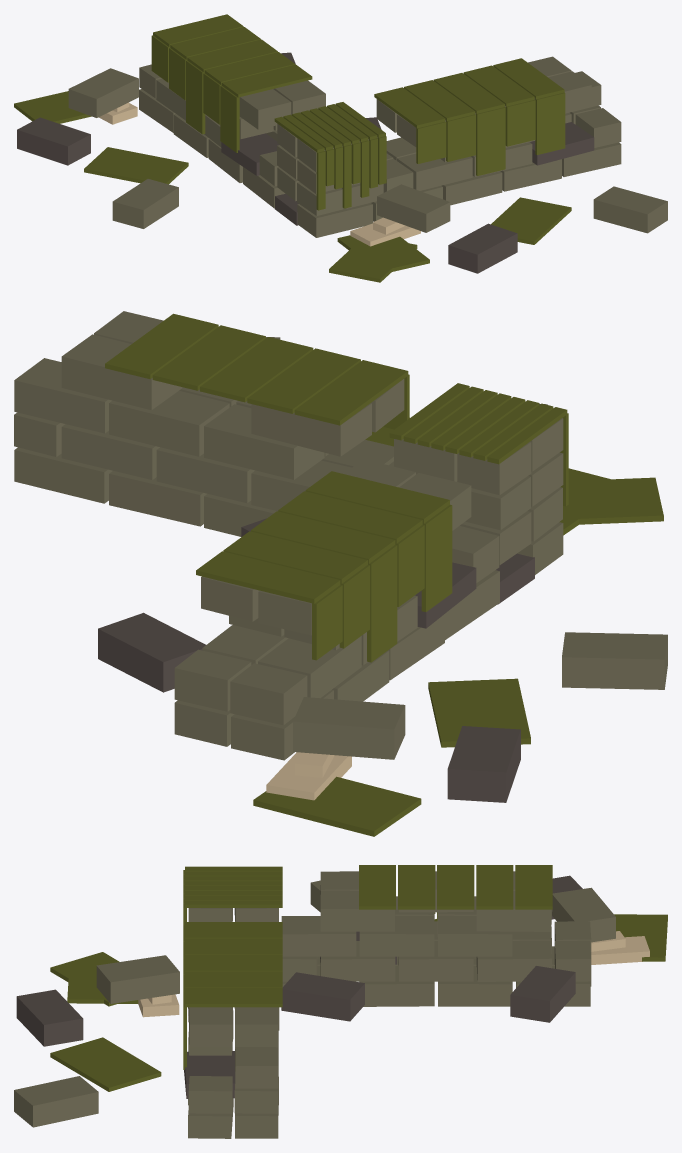
Rendered from SM_SacosEsquina_v4_Red_e1_Danado_LOD0.fbx.
The picture shows the model from 3 angles, top to bottom: view 1: azimuth 30°, elevation 25°; view 2: azimuth 150°, elevation 25°; view 3: azimuth 270°, elevation 25°; orthographic projection. The views are drawn at different scales.
Parts seen in each view (by area): view 1: SM_sacos_piezas_v17_LOD0; view 2: SM_sacos_piezas_v17_LOD0; view 3: SM_sacos_piezas_v17_LOD0.
Part boxes in pixels (left/top/right/bottom): SM_sacos_piezas_v17_LOD0: left=14, top=14, right=667, bottom=282; SM_sacos_piezas_v17_LOD0: left=14, top=311, right=667, bottom=836; SM_sacos_piezas_v17_LOD0: left=14, top=865, right=667, bottom=1138.
Size of the model in its own units: 6.28 by 1.24 by 7.11.
